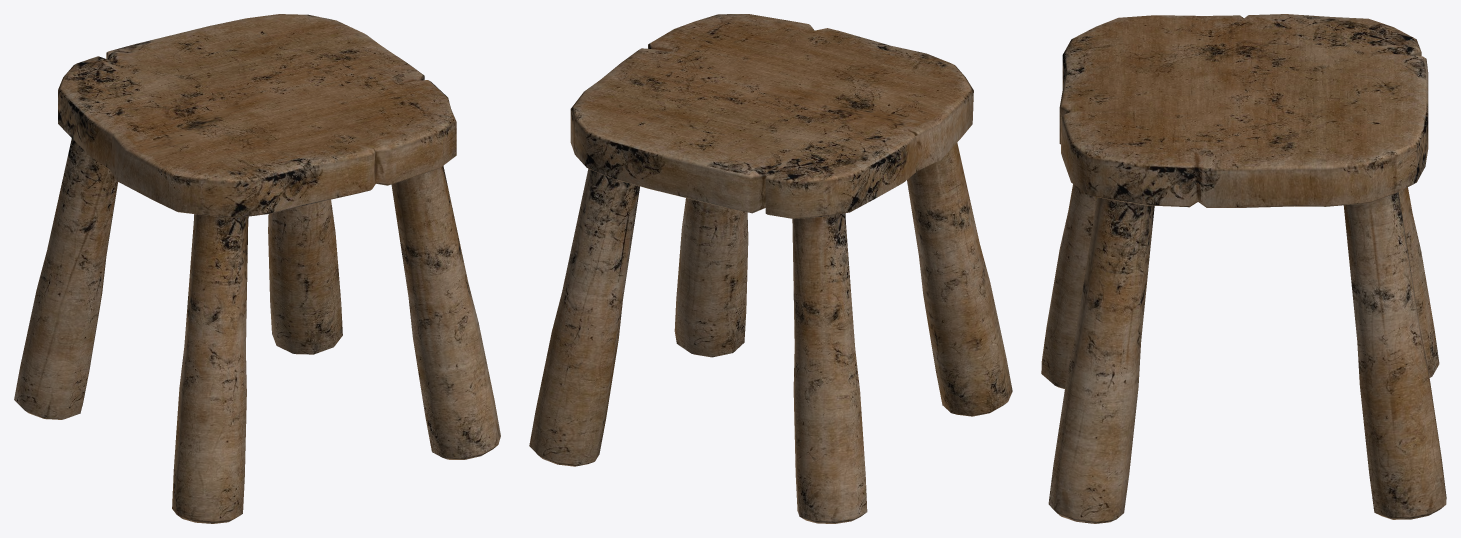
3 views of the same model, side by side, from view 1: azimuth 30°, elevation 25°; view 2: azimuth 150°, elevation 25°; view 3: azimuth 270°, elevation 25° (orthographic). The views are drawn at different scales.
Parts seen in each view (by area): view 1: Object_2; view 2: Object_2; view 3: Object_2.
Part boxes in pixels (<box>): Object_2: <box>14,14,500,523</box>; Object_2: <box>529,14,1012,523</box>; Object_2: <box>1041,14,1446,523</box>.
Size of the model in its own units: 1.09 by 1.07 by 1.09.
1 material, 1 textured.
